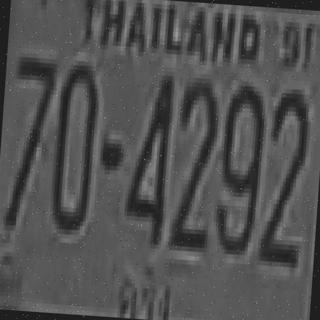N00: (49, 59, 99, 231)
N02: (259, 85, 312, 252), (168, 74, 218, 246), (169, 74, 218, 232)
N04: (122, 67, 173, 242)
N07: (4, 52, 57, 228)
N09: (212, 80, 264, 251)
P70: (108, 261, 178, 320)
